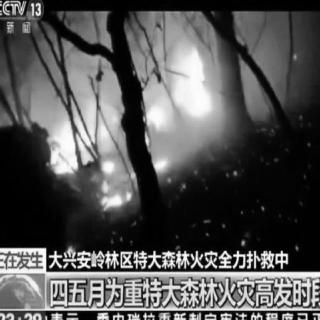Fire: (140, 32, 218, 176)
